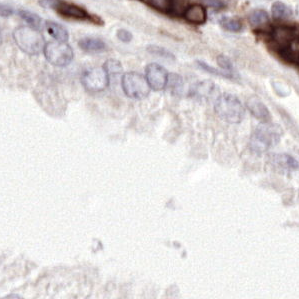Lymphocyte: (54, 1, 108, 29)
